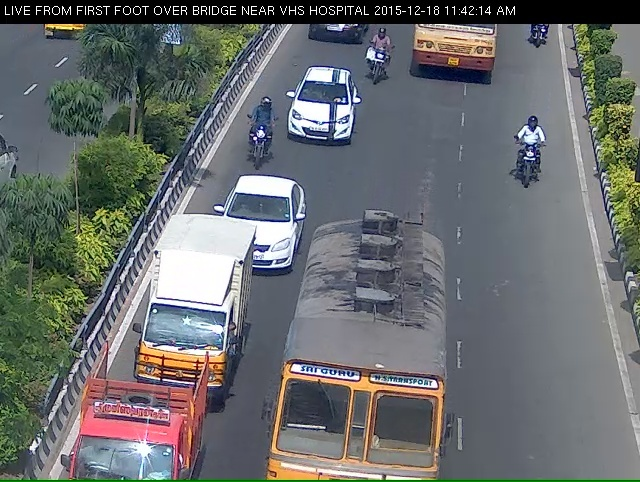Bus: (293, 251, 455, 482), (410, 20, 501, 92)
Car: (143, 237, 239, 420), (66, 362, 205, 481), (210, 188, 298, 287), (286, 68, 355, 159)
Person: (510, 122, 550, 202), (239, 105, 278, 178), (364, 37, 397, 94)
